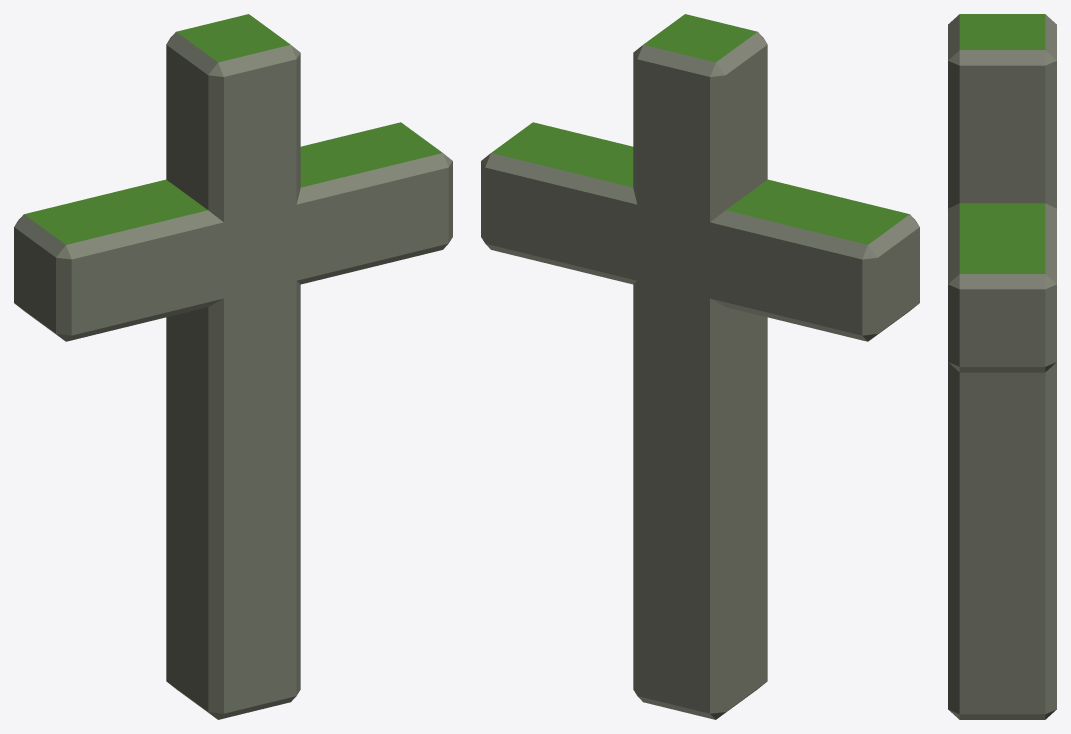
Rendered from Grave_Cross.fbx.
The picture shows the model from 3 angles, left to right: view 1: azimuth 30°, elevation 25°; view 2: azimuth 150°, elevation 25°; view 3: azimuth 270°, elevation 25°; orthographic projection.
Parts seen in each view (by area): view 1: Grave_Cross.001; view 2: Grave_Cross.001; view 3: Grave_Cross.001.
Boxes of the visible parts, x1,y1,x2,y2 form: Grave_Cross.001: (14, 14, 452, 719); Grave_Cross.001: (481, 14, 919, 719); Grave_Cross.001: (948, 14, 1056, 719).
Bounding box in the file's own units: 0.6 × 0.95 × 0.14.
